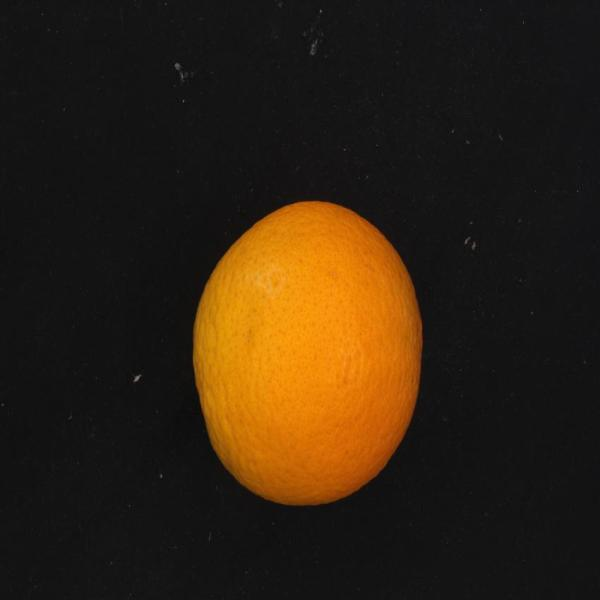Sana: (190, 188, 434, 522)
